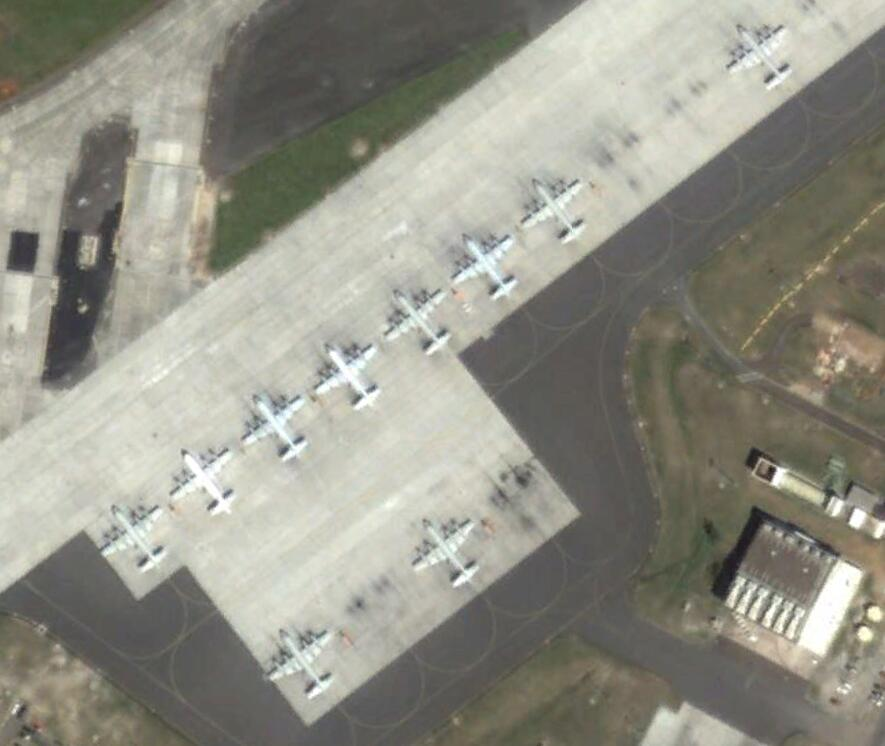A9: (259, 628, 340, 699), (726, 22, 798, 93), (242, 394, 314, 465), (167, 450, 239, 521), (412, 518, 482, 590), (383, 286, 452, 359), (98, 505, 171, 574), (312, 345, 384, 413), (521, 176, 589, 247), (449, 232, 520, 300)
